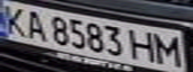3: (103, 23, 127, 57)
5: (66, 17, 87, 51)
8: (45, 13, 72, 46), (84, 20, 106, 54)
A: (21, 9, 51, 42)
H: (127, 28, 160, 63)
K: (0, 3, 30, 36)
M: (151, 32, 187, 66)
